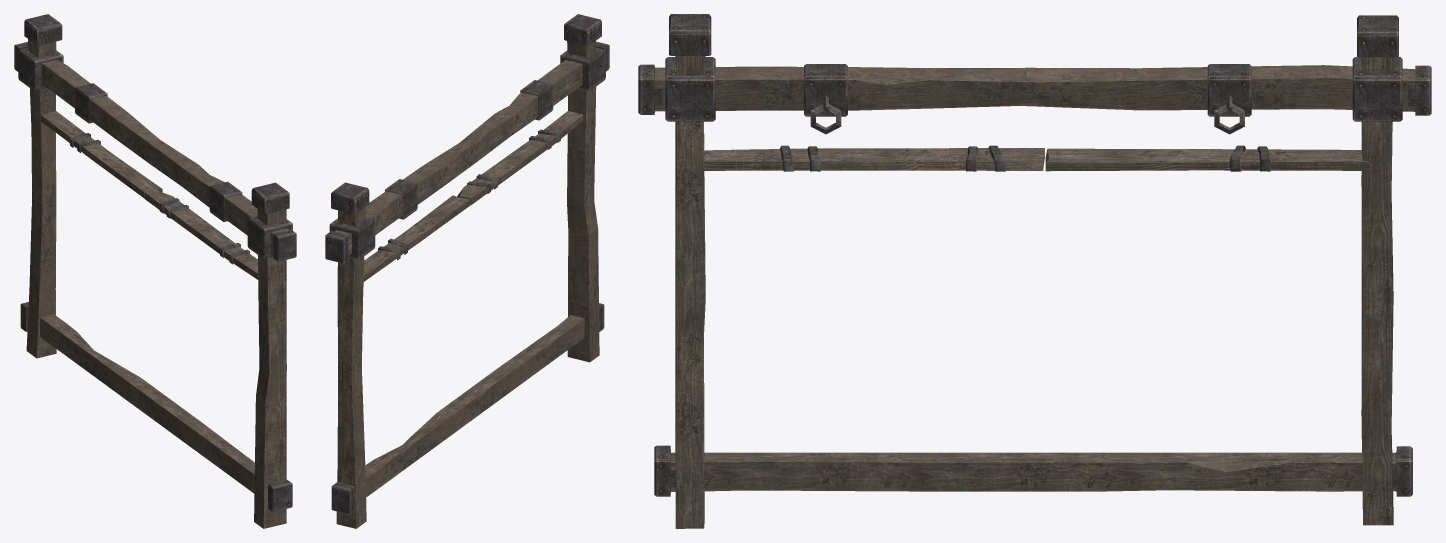
The model's file is bg_anh_mirrorv_bm01_7_5_sm_old.FBX.
3 views of the same model, side by side, from view 1: azimuth 30°, elevation 25°; view 2: azimuth 150°, elevation 25°; view 3: azimuth 270°, elevation 25° (orthographic). The views are drawn at different scales.
Parts seen in each view (by area): view 1: bg_anh_mirrorv_bm01_7_5_sm_old; view 2: bg_anh_mirrorv_bm01_7_5_sm_old; view 3: bg_anh_mirrorv_bm01_7_5_sm_old.
Boxes of the visible parts, <box> form: bg_anh_mirrorv_bm01_7_5_sm_old: <box>14,14,296,528</box>; bg_anh_mirrorv_bm01_7_5_sm_old: <box>325,14,609,528</box>; bg_anh_mirrorv_bm01_7_5_sm_old: <box>638,14,1431,528</box>.
Bounding box in the file's own units: 26.31 × 243 × 350.
